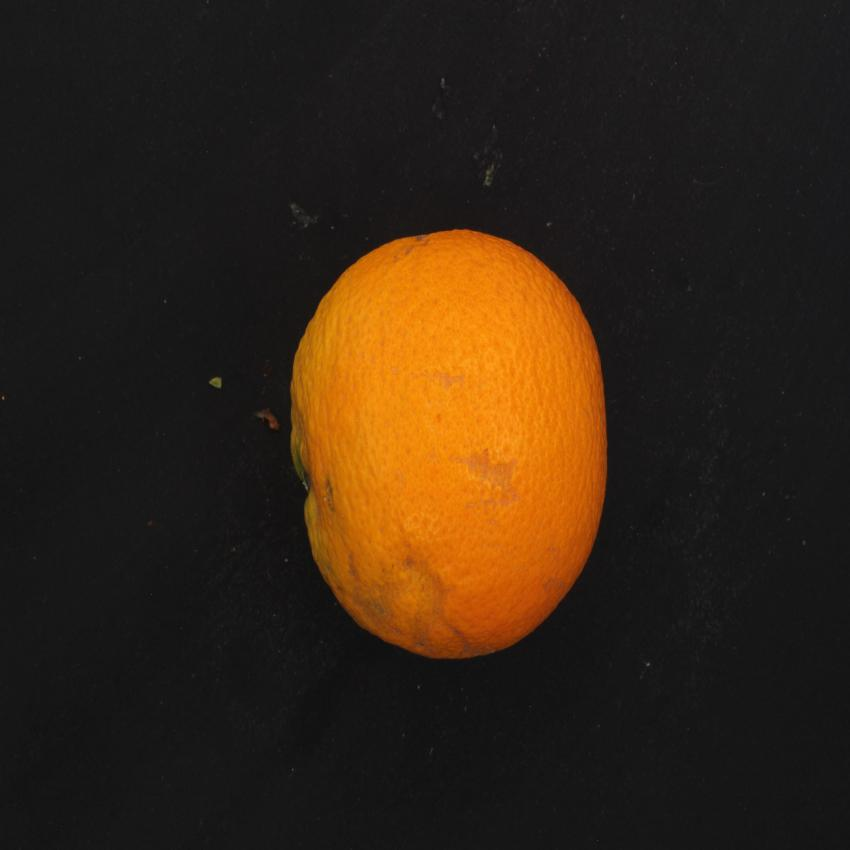Buen estado: (273, 220, 620, 680)
